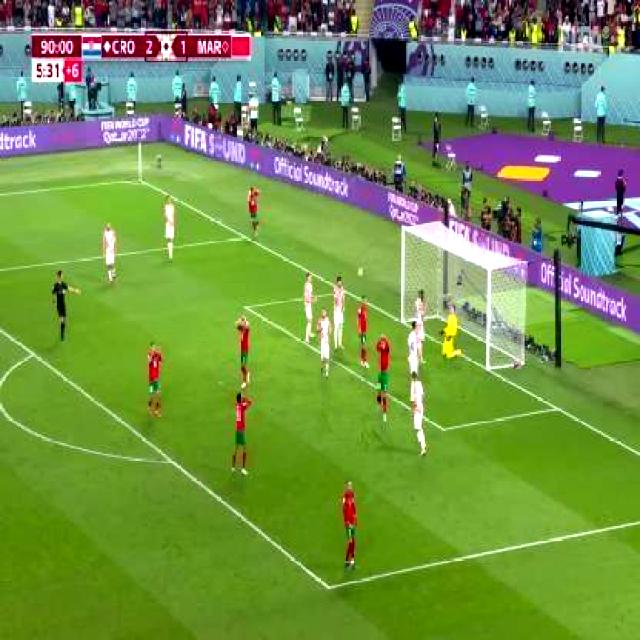bigarea_bottom_inner: (317, 569, 340, 608)
bigarea_top_outter: (240, 228, 252, 246)
bottom_arc_area_intersection: (163, 445, 182, 477)
corner: (132, 176, 145, 187)
smallarea_bottom_inner: (434, 417, 454, 443)
smallarea_bottom_outter: (548, 392, 566, 425)
smallarea_top_inner: (238, 296, 254, 318)
top_arc_area_intersection: (24, 342, 41, 371)
